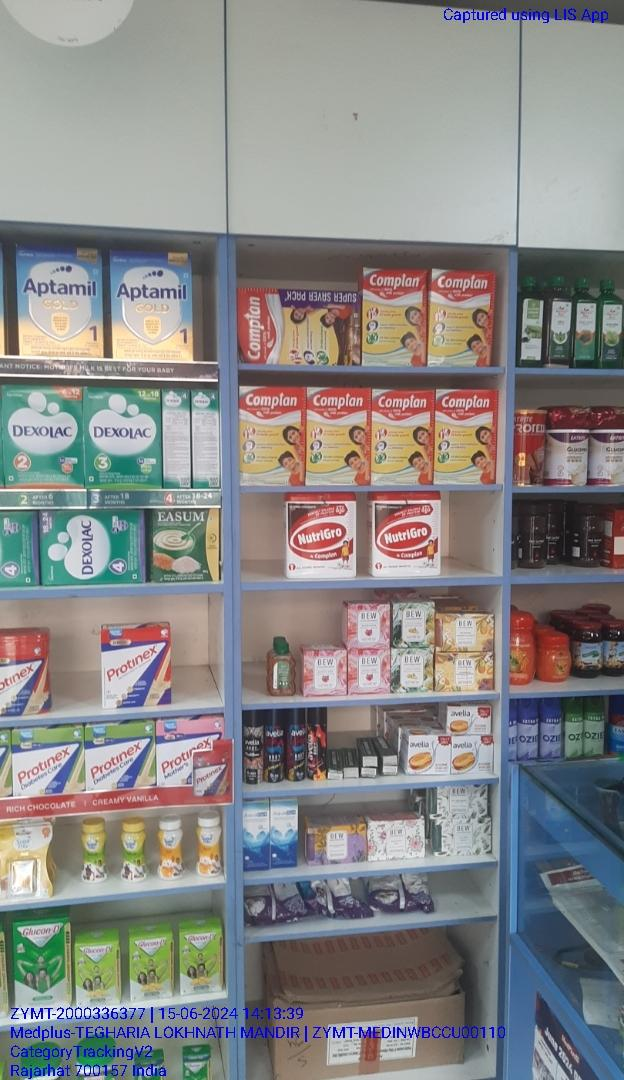COMPLAN_CREAMY_CLASSIC_500_G_PACK: (237, 387, 308, 487), (429, 271, 495, 367), (310, 386, 370, 486), (363, 270, 425, 366), (371, 390, 433, 484), (435, 388, 495, 484)
